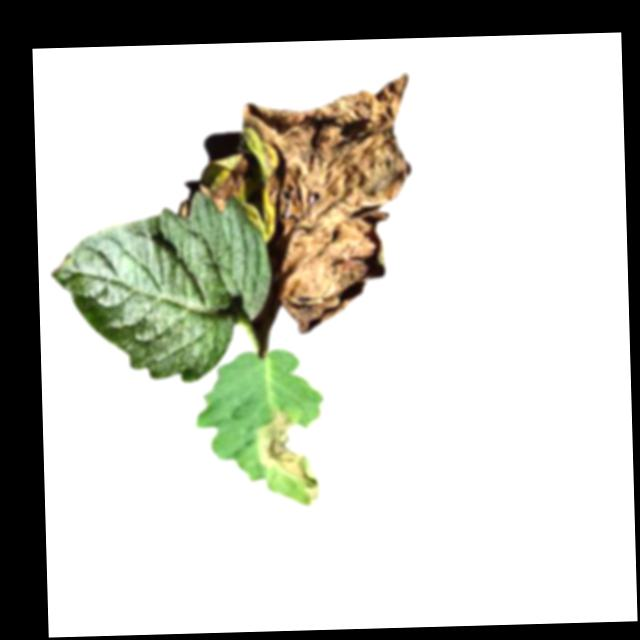Late_blight: (241, 70, 417, 334), (252, 405, 321, 509), (196, 154, 244, 213)
